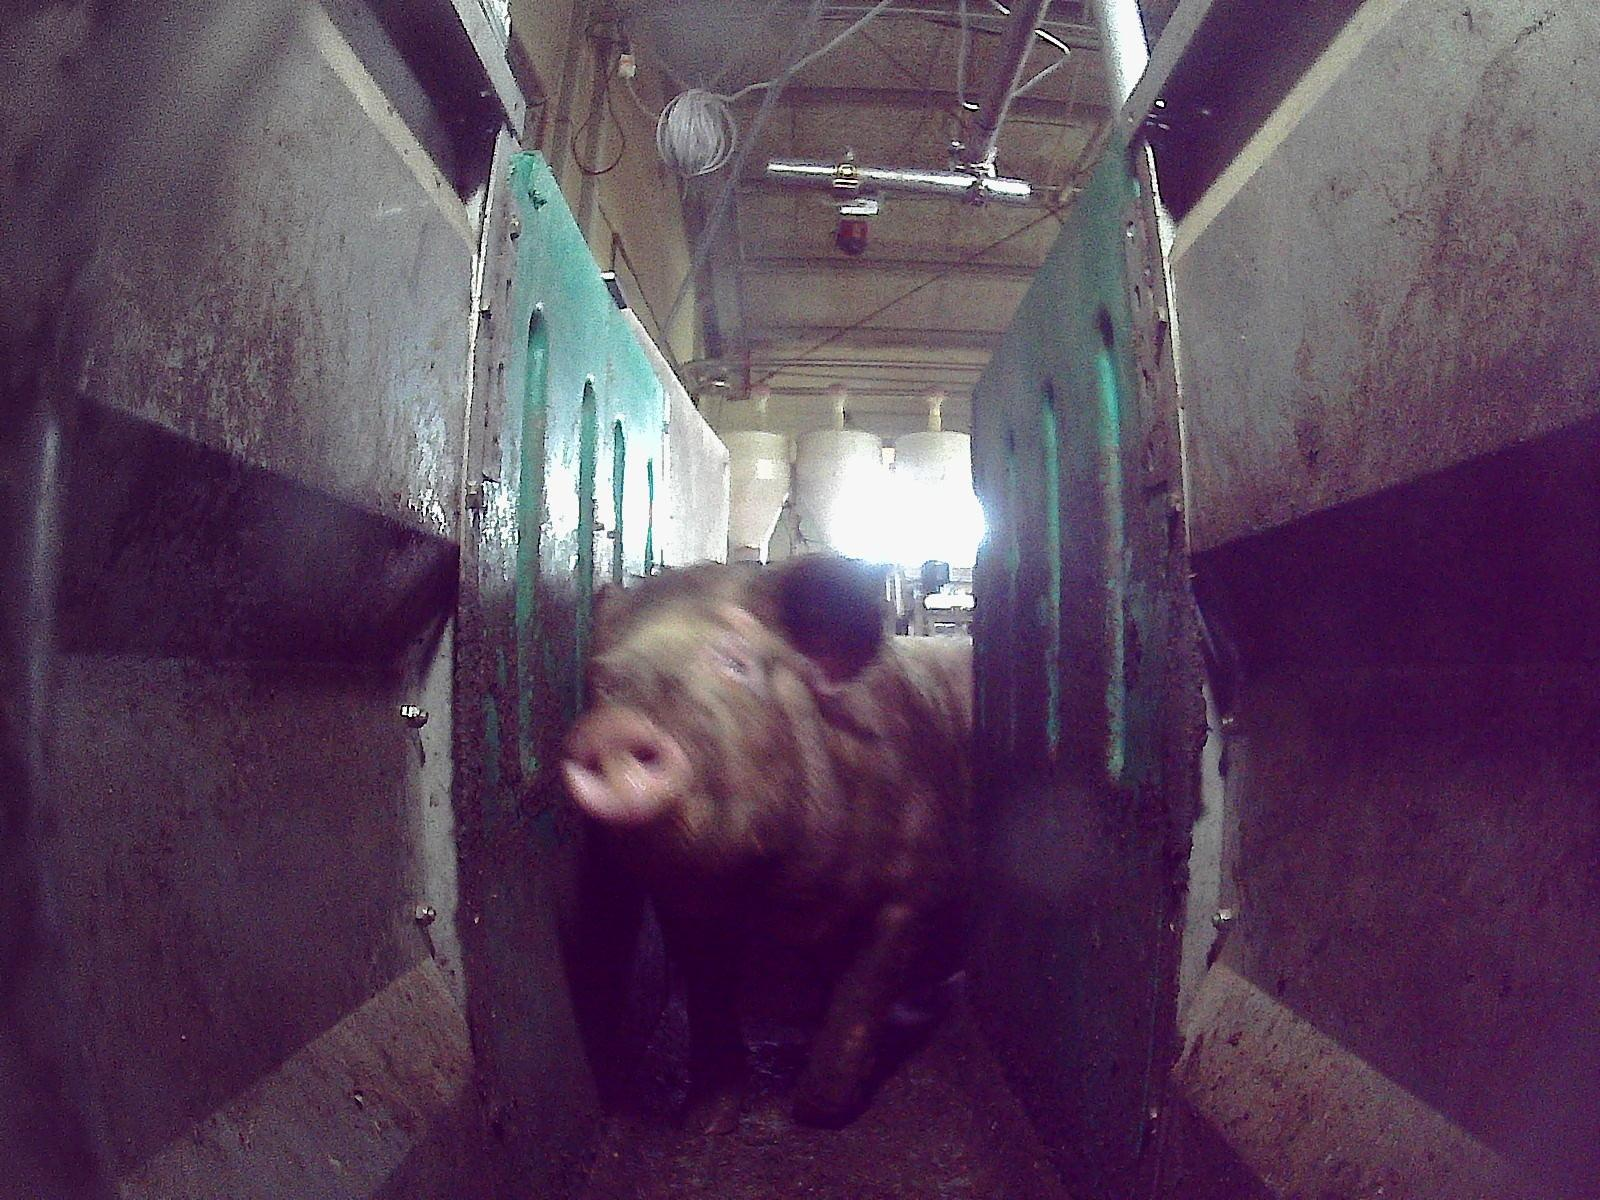Face: (554, 562, 817, 874)
